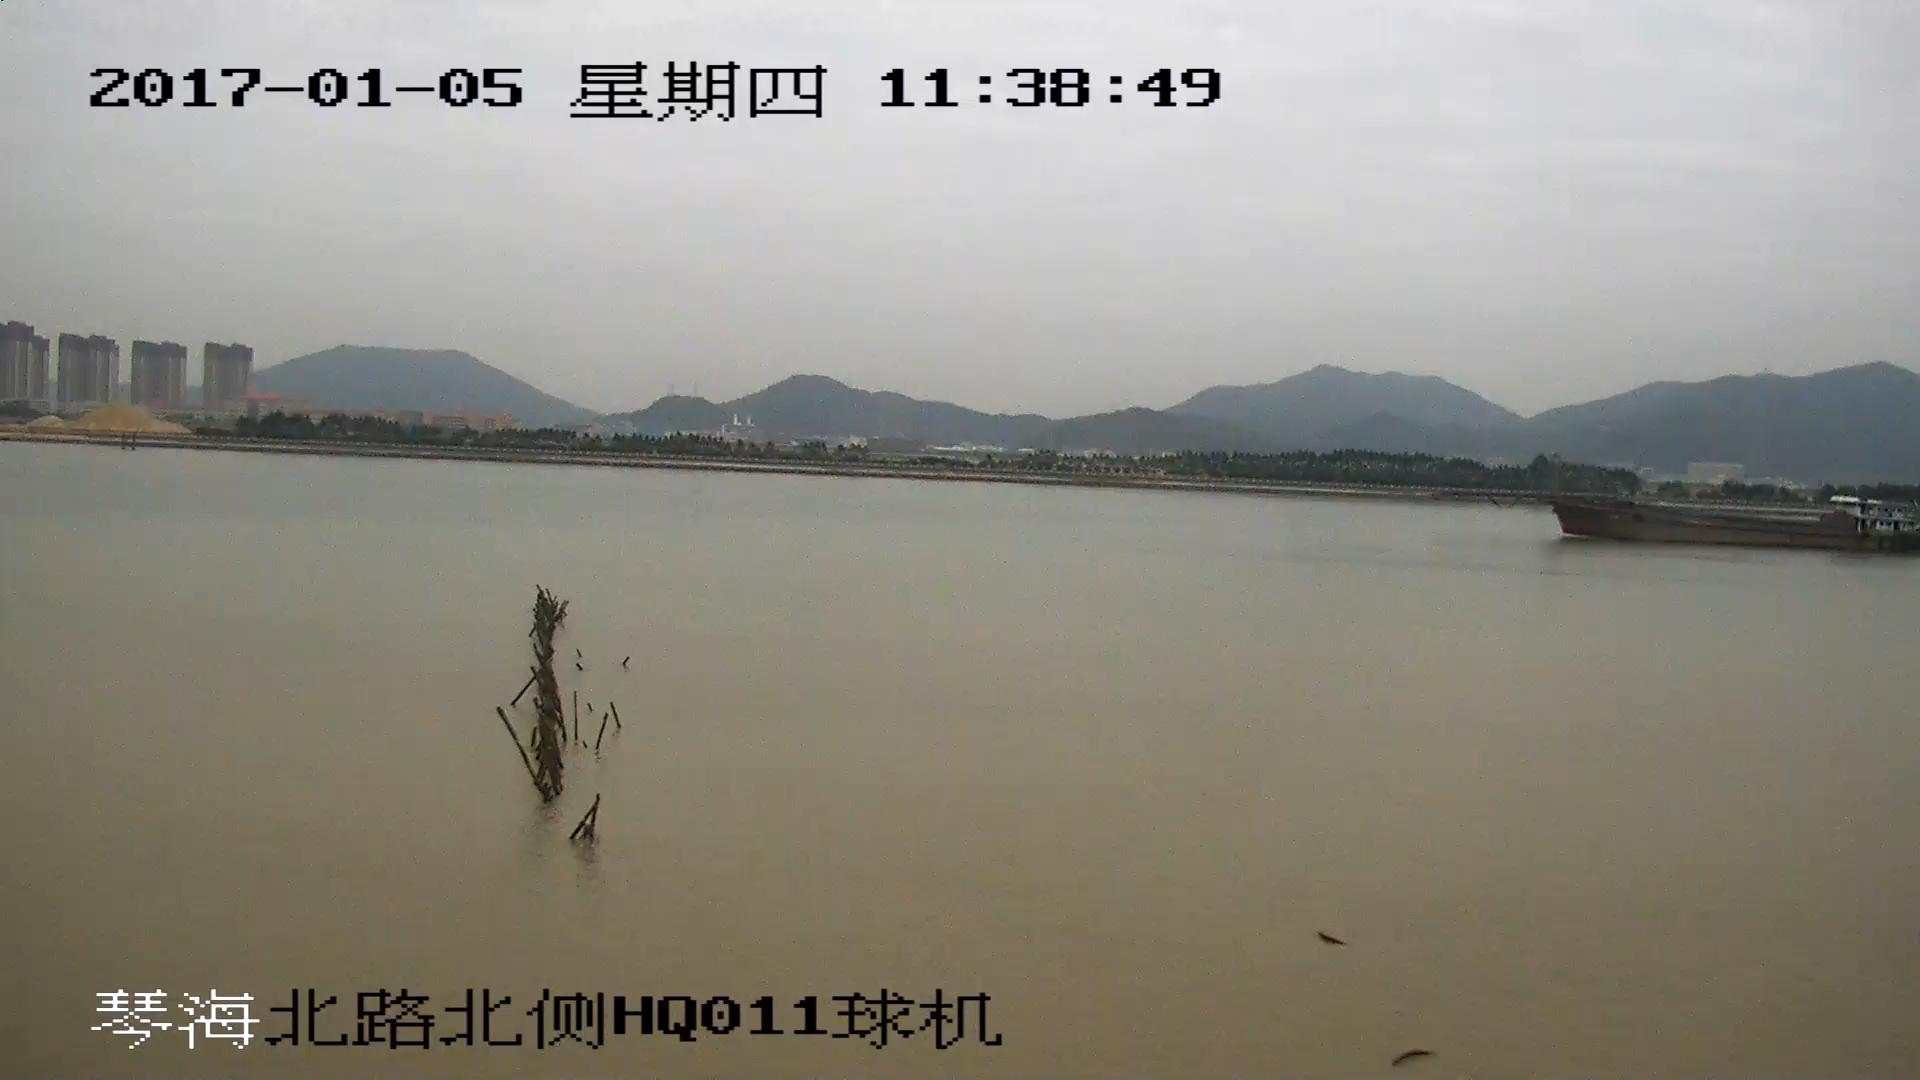bulk cargo carrier: (1497, 486, 1920, 549)
